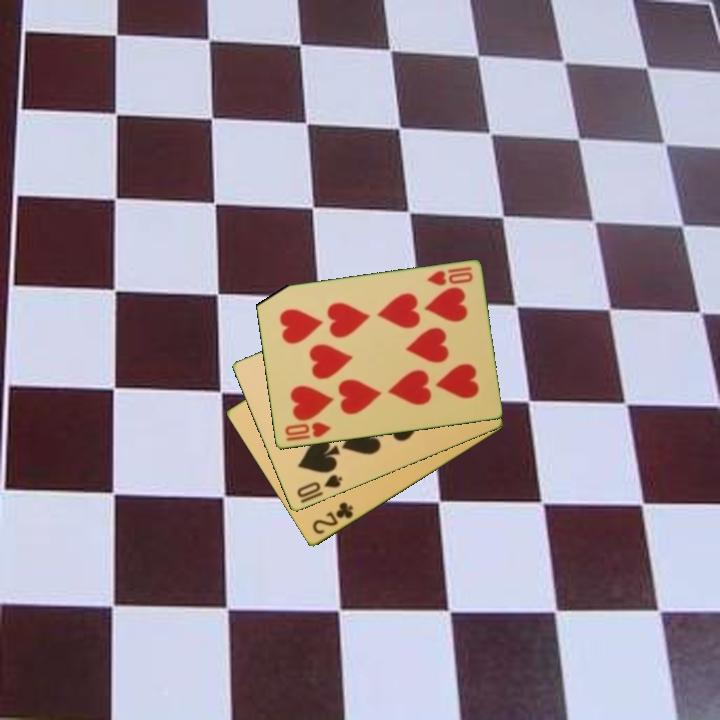10h: (423, 264, 475, 289), (281, 419, 334, 440)
10s: (293, 471, 345, 501)
2c: (308, 499, 356, 538)
